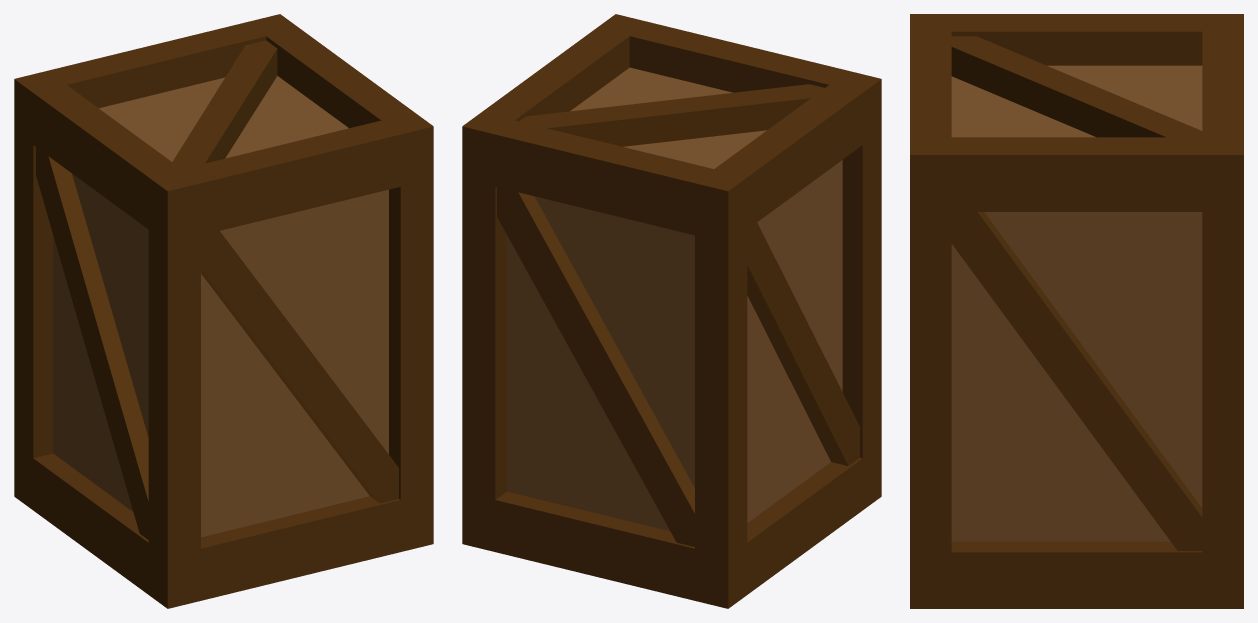
File: cratetall.fbx
The picture shows the model from 3 angles, left to right: view 1: azimuth 30°, elevation 25°; view 2: azimuth 150°, elevation 25°; view 3: azimuth 270°, elevation 25°; orthographic projection. The views are drawn at different scales.
Parts seen in each view (by area): view 1: Cube.004; view 2: Cube.004; view 3: Cube.004.
Boxes of the visible parts, x1,y1,x2,y2 form: Cube.004: (14, 14, 433, 608); Cube.004: (462, 14, 881, 608); Cube.004: (910, 14, 1243, 608).
Bounding box in the file's own units: 400 × 600 × 400.
